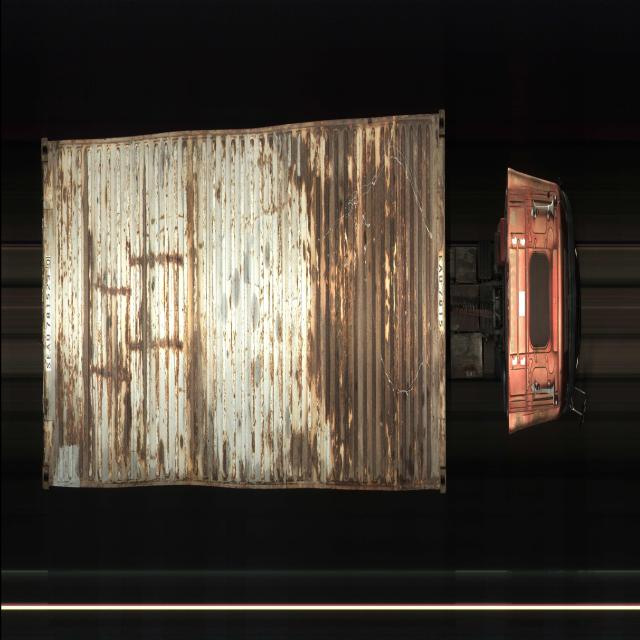rust: (290, 126, 446, 488), (81, 168, 94, 478), (253, 344, 285, 459), (186, 336, 212, 473), (130, 231, 185, 277), (57, 155, 73, 277), (186, 174, 204, 276), (132, 333, 184, 365), (258, 140, 276, 225), (95, 353, 130, 396), (55, 334, 66, 444), (97, 274, 134, 306), (136, 370, 149, 461), (67, 348, 80, 436), (124, 396, 134, 475)
